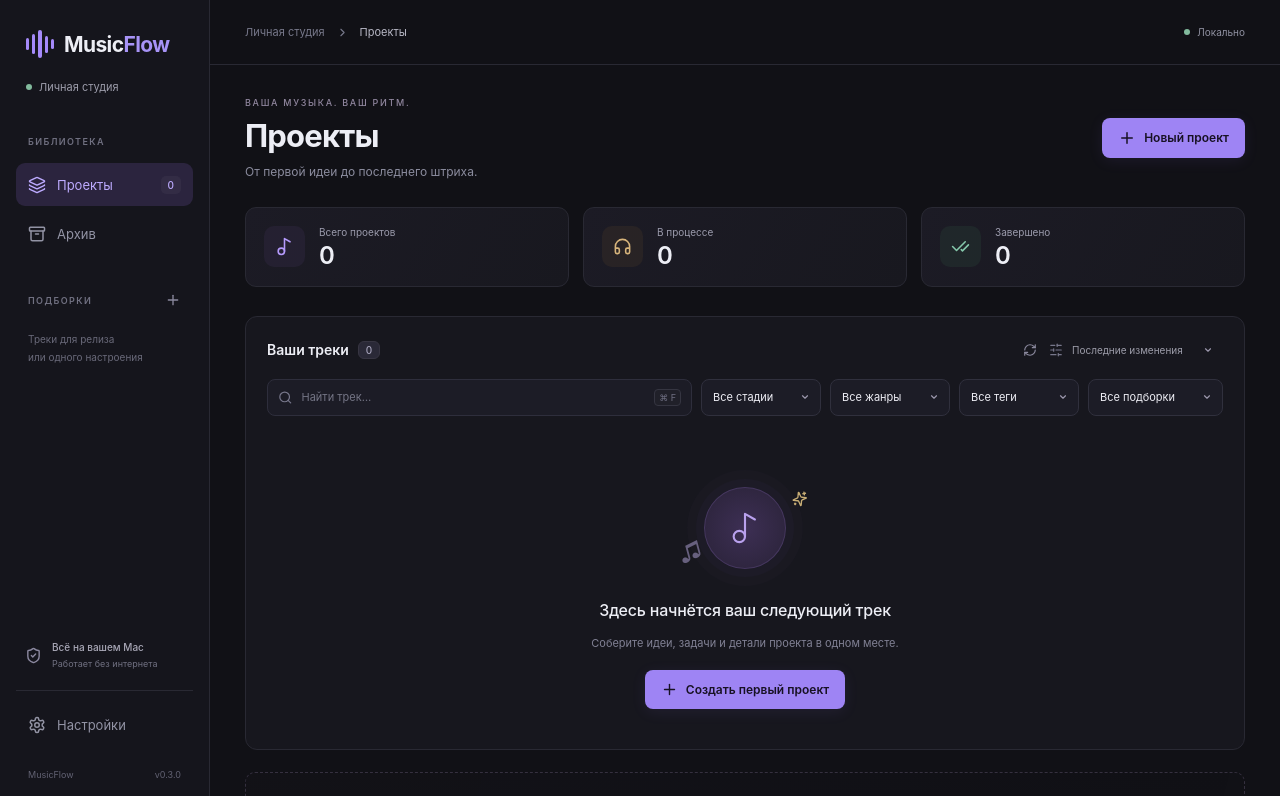
Test: MusicFlow interaction › reports failed writes and keeps entered text for retry
Click the button "Создать первый проект" at coordinates (745, 690), box [645,670,845,709]
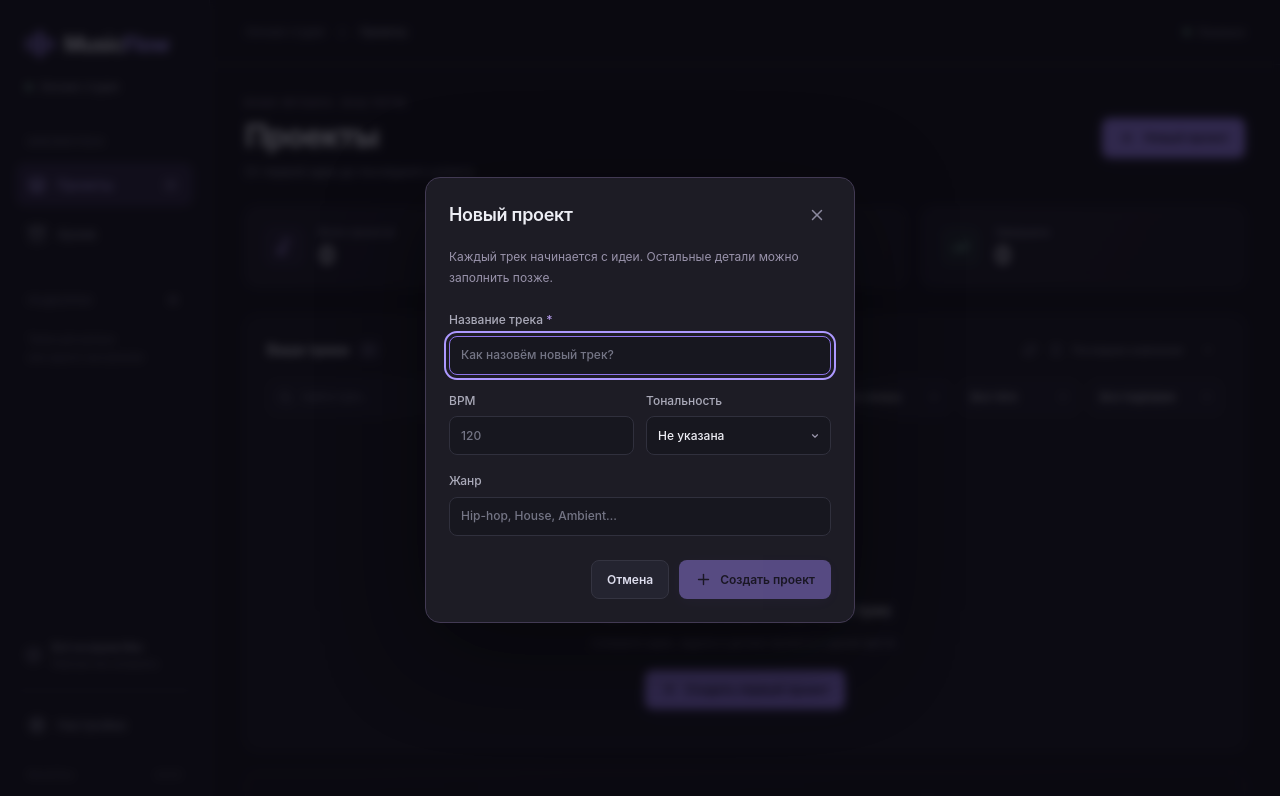
Type "Не потерять" into the field with placeholder "Как назовём новый трек?" at coordinates (640, 355), box [449,336,831,375]
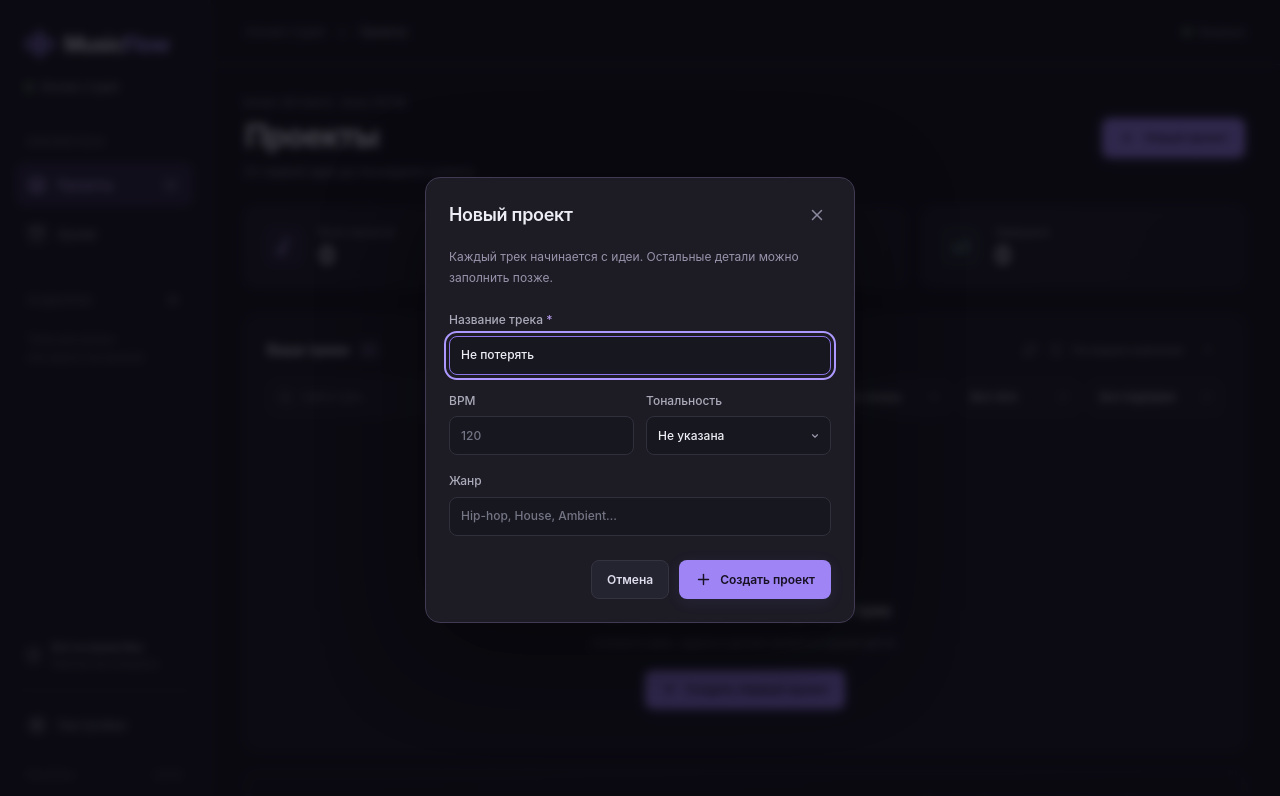
Click the button "Создать проект" at coordinates (755, 580), box [679,560,831,599]
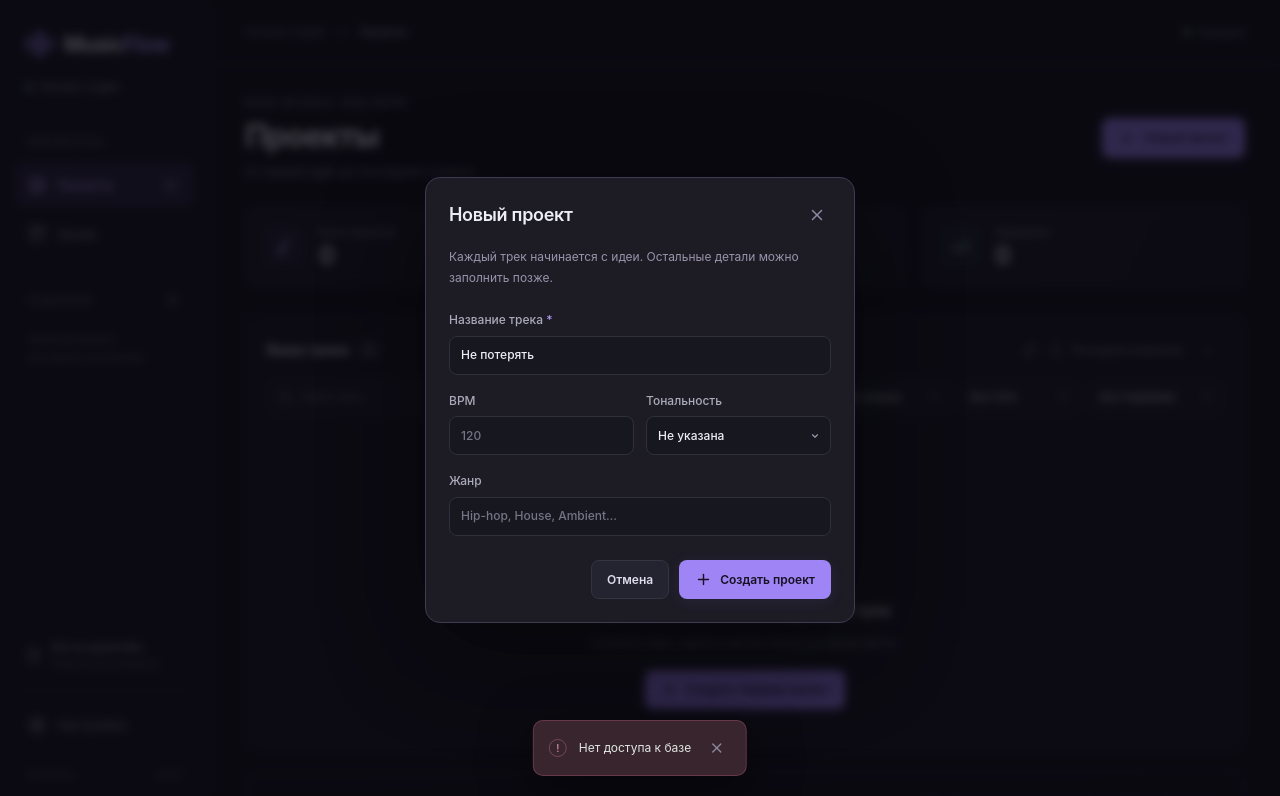
Expected: the message "! Нет доступа к базе" is shown, [533,720,747,776]
